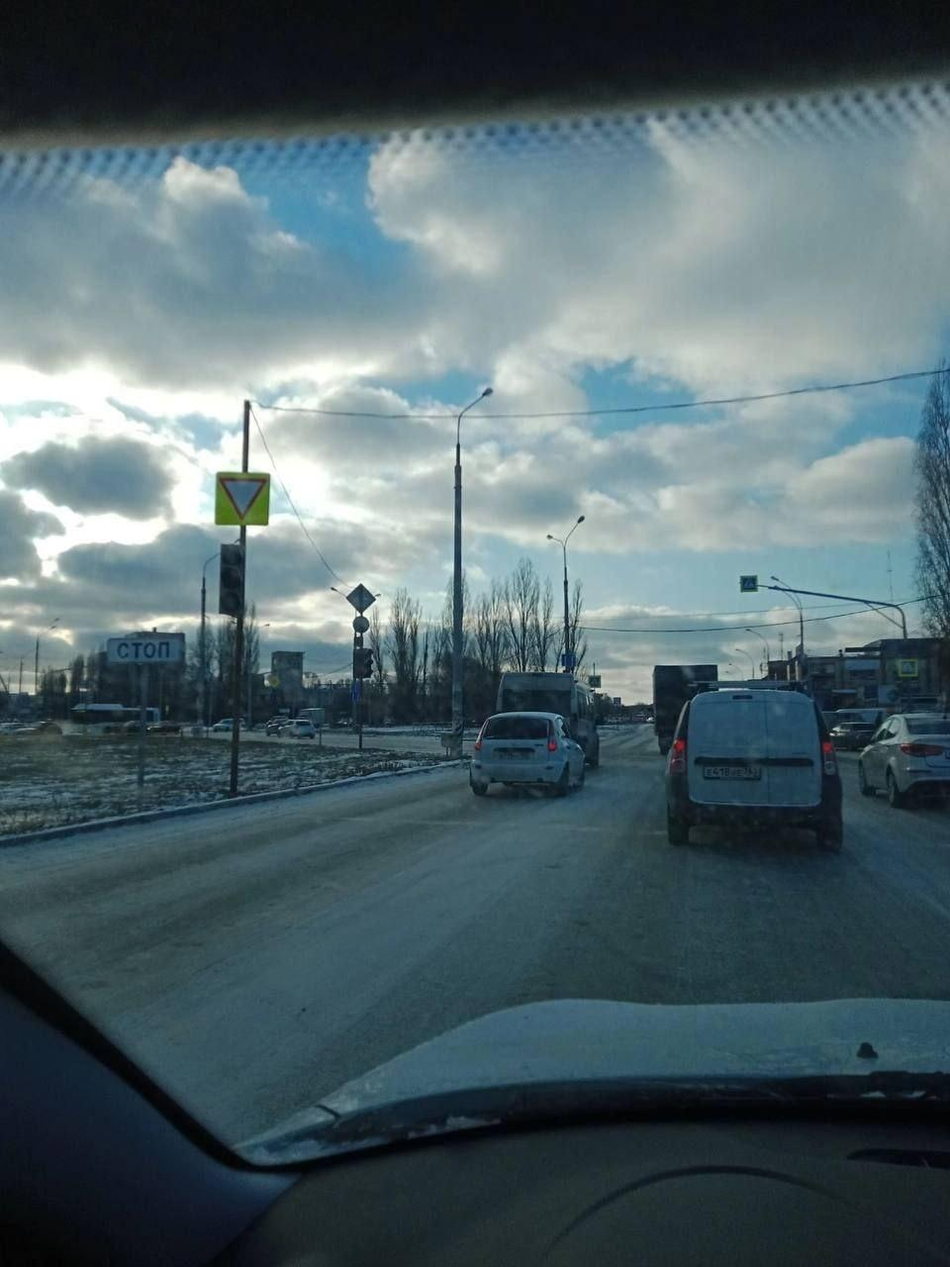off traffic light: (219, 543, 242, 616), (361, 648, 372, 677)
road_sign: (215, 471, 270, 527), (107, 637, 183, 663)
